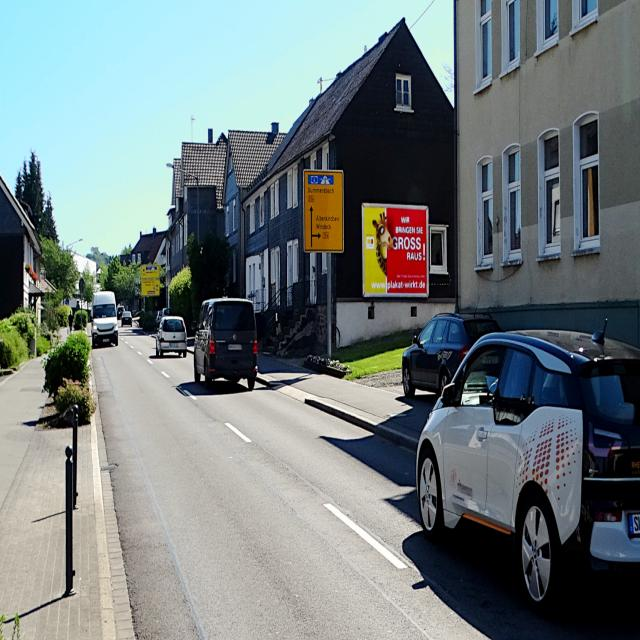Werbetafel frei: (358, 196, 432, 306)
